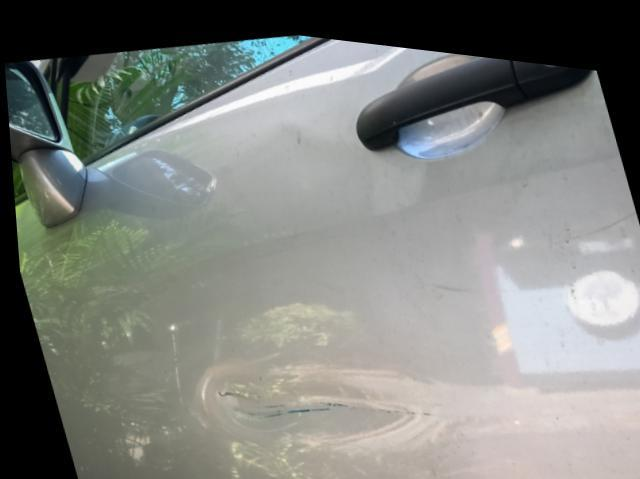dent: (195, 353, 410, 436)
